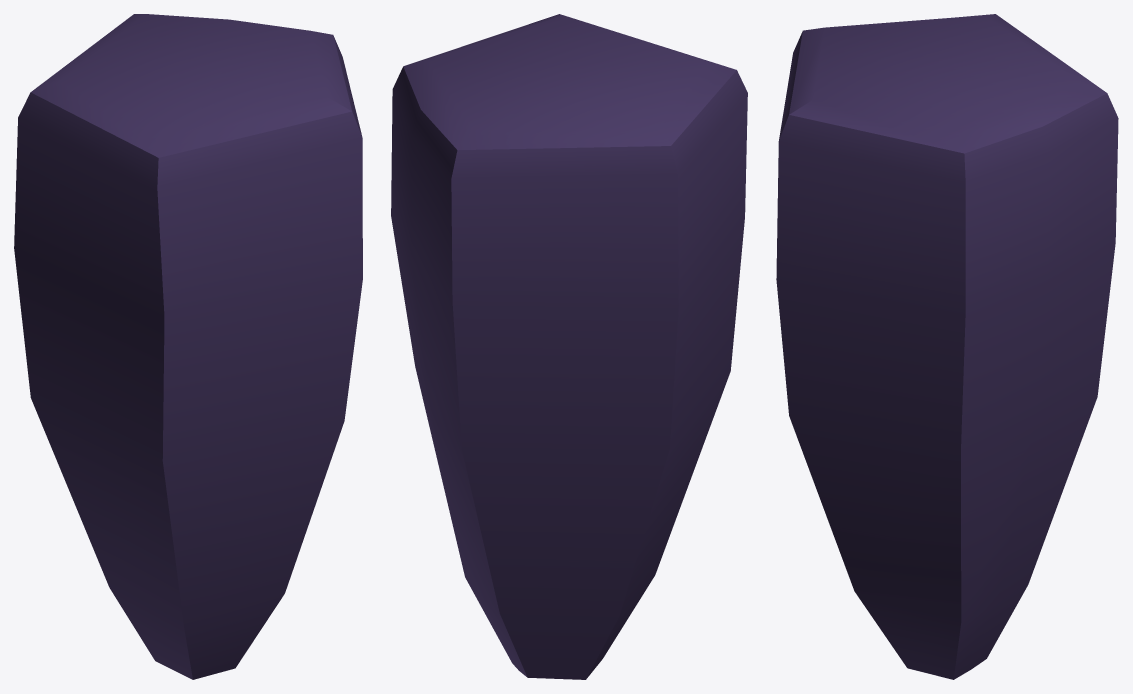
The model's file is island_floor_004.glb.
The picture shows the model from 3 angles, left to right: view 1: azimuth 30°, elevation 25°; view 2: azimuth 150°, elevation 25°; view 3: azimuth 270°, elevation 25°; orthographic projection.
Parts seen in each view (by area): view 1: island_floor.004; view 2: island_floor.004; view 3: island_floor.004.
Part boxes in pixels (bbox=[...]): island_floor.004: bbox=[14, 14, 362, 679]; island_floor.004: bbox=[391, 14, 747, 679]; island_floor.004: bbox=[776, 14, 1118, 679].
Bounding box in the file's own units: 0.2804 × 0.5144 × 0.2699.
